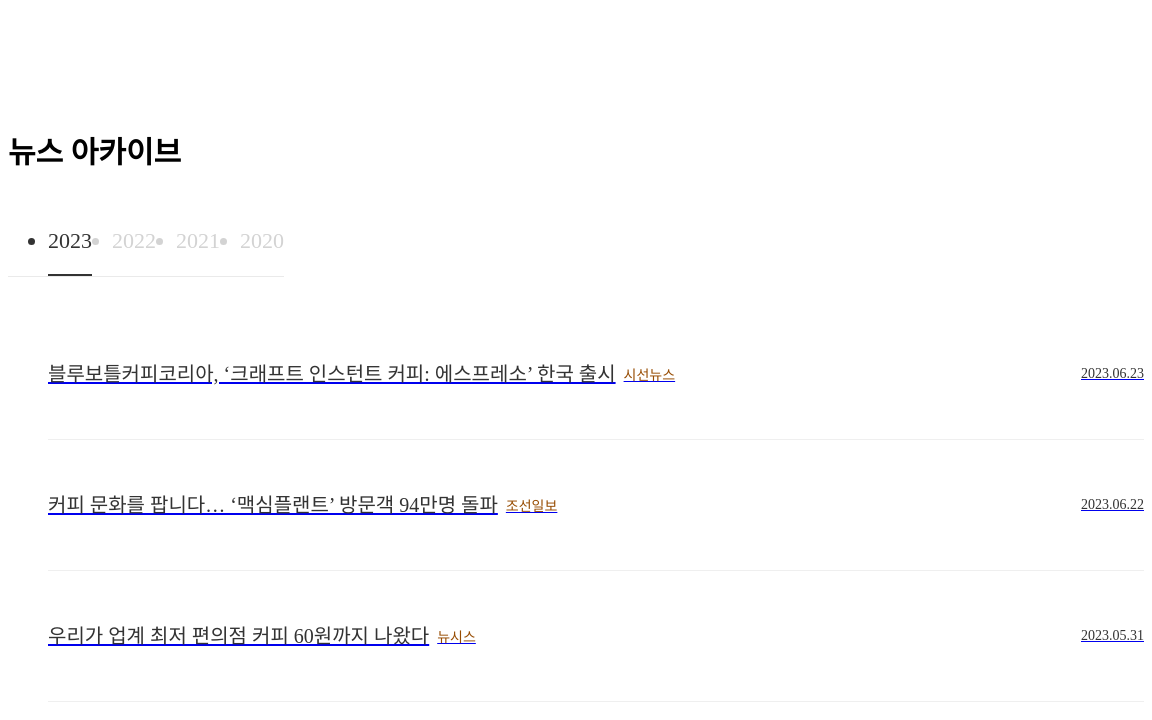
MiddleNews 통합 테스트 › 2022 탭 클릭. 기사 29개 › 기사 10개 초과 시 더 보기 버튼 표시
Click the tab "2022": x=134, y=240 [112,228,156,253]
(page scrolled)
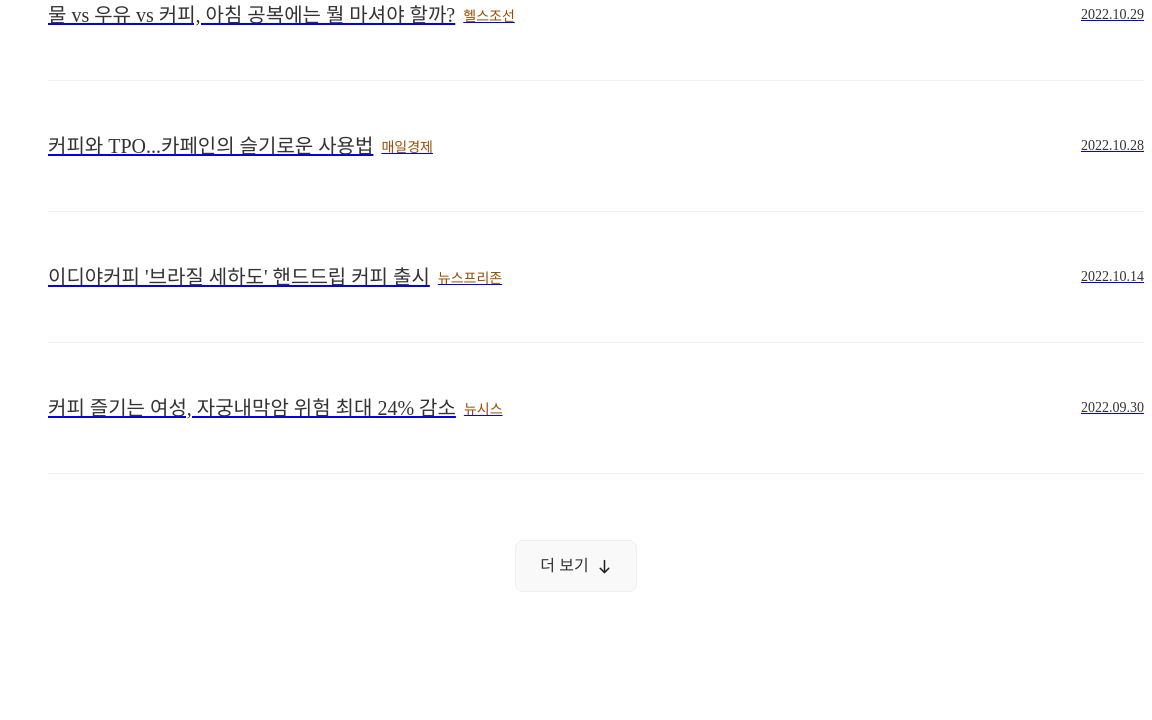
expect the button is shown: met, box [515,540,637,592]
